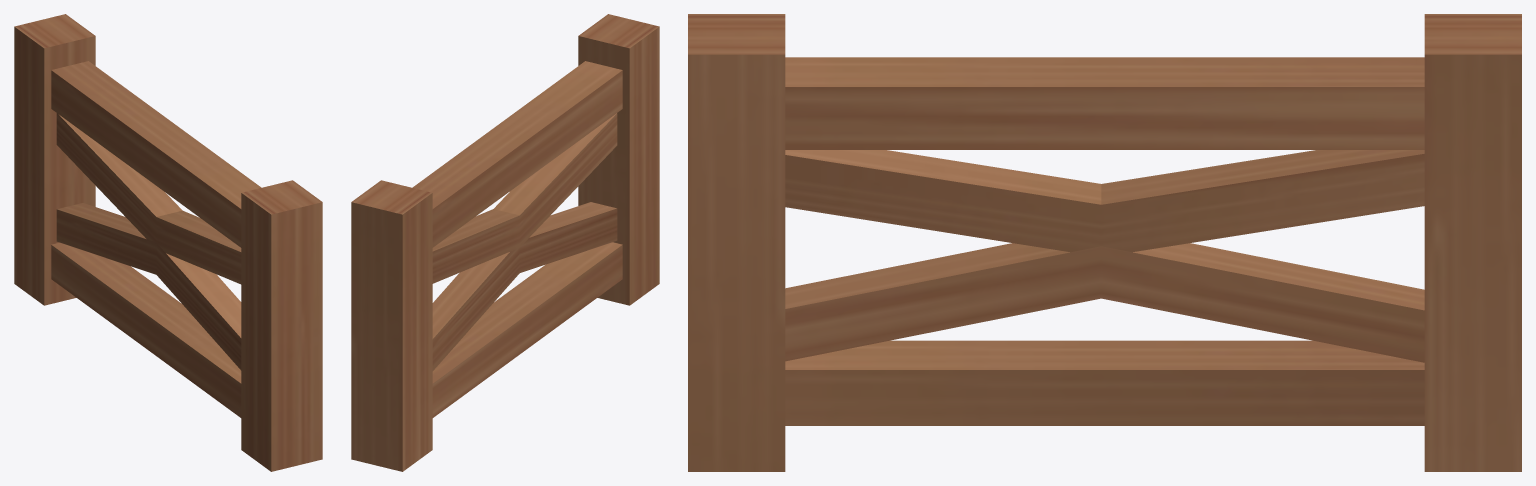
Rendered from Wooden Fence.fbx.
3 renders of one model, left to right at view 1: azimuth 30°, elevation 25°; view 2: azimuth 150°, elevation 25°; view 3: azimuth 270°, elevation 25°, orthographic. The views are drawn at different scales.
Visible parts, largest first — view 1: Fence_Farm; view 2: Fence_Farm; view 3: Fence_Farm.
Boxes of the visible parts, <box> form: Fence_Farm: <box>14,14,322,471</box>; Fence_Farm: <box>351,14,659,471</box>; Fence_Farm: <box>688,14,1521,471</box>.
Bounding box in the file's own units: 12.15 × 58.09 × 105.
